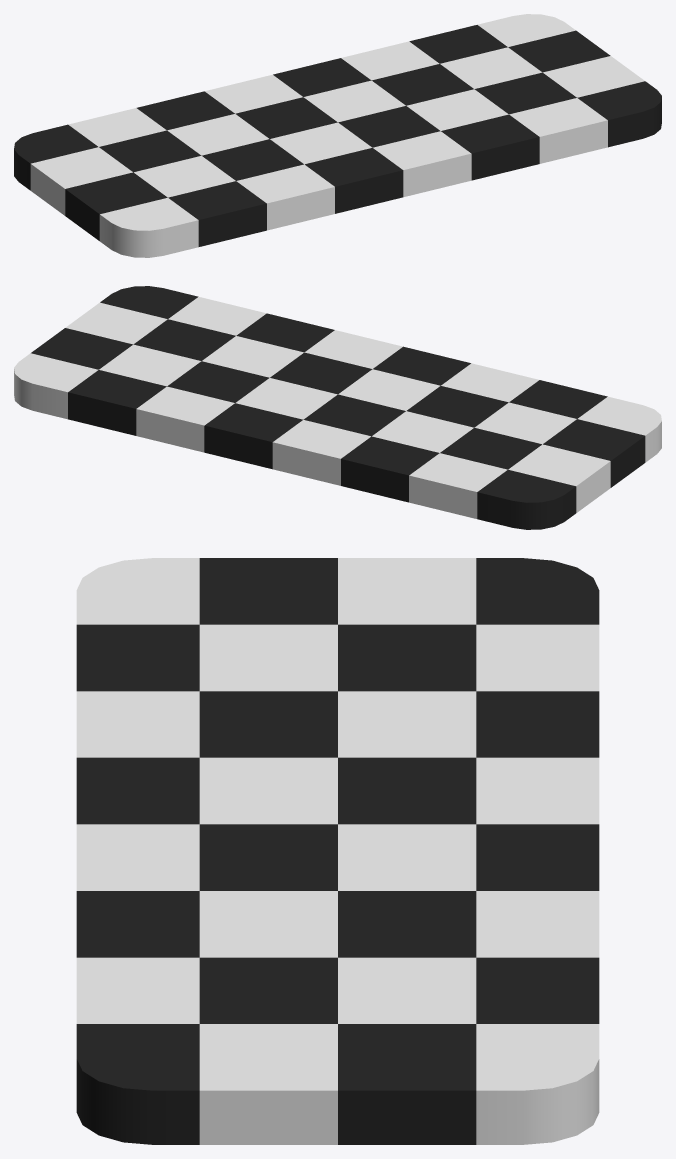
File: Finishl Line.fbx
3 views of the same model, one above another, from view 1: azimuth 30°, elevation 25°; view 2: azimuth 150°, elevation 25°; view 3: azimuth 270°, elevation 25° (orthographic). The views are drawn at different scales.
Parts seen in each view (by area): view 1: Finish Line; view 2: Finish Line; view 3: Finish Line.
Part boxes in pixels (bbox=[...]): Finish Line: bbox=[14, 14, 661, 257]; Finish Line: bbox=[14, 286, 661, 529]; Finish Line: bbox=[76, 558, 599, 1144].
Size of the model in its own units: 288 by 13.65 by 119.
